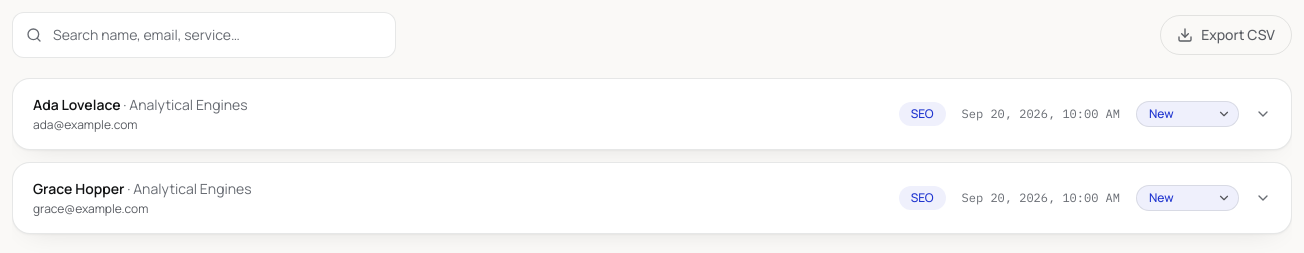
Scenario: <LeadsTable /> › filters by name, email, service or company as you type
The width and height of the screenshot is (1304, 253).
In the search field named "search leads": (204, 35) top-left (12, 12), bottom-right (396, 58), type "grace"
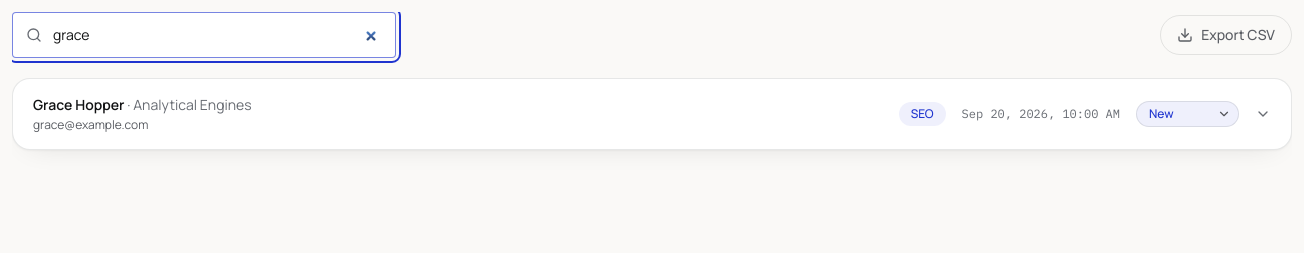
Check: the text "Grace Hopper · Analytical Engines" is shown, box top-left (33, 95), bottom-right (252, 114)
Check: the heading "Ada Lovelace" is gone
